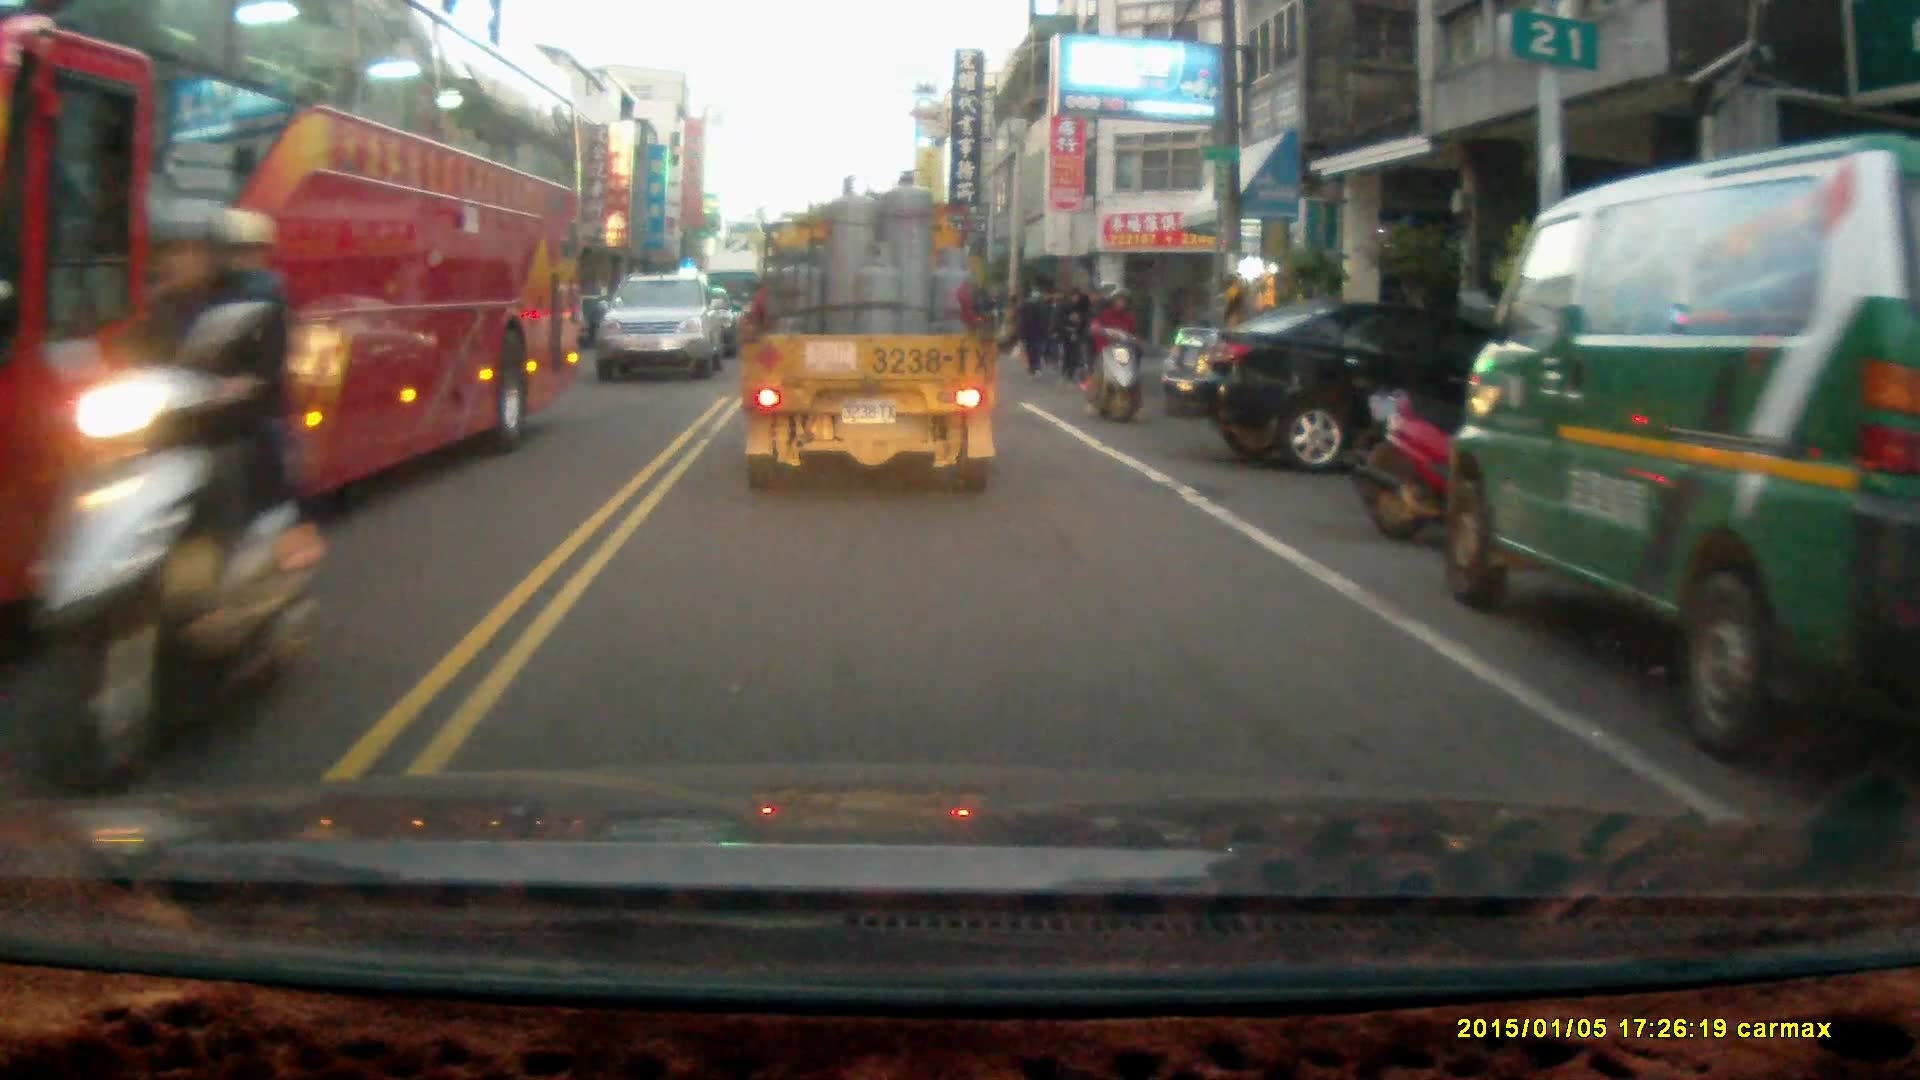pedestrian: (1054, 285, 1090, 389), (1018, 285, 1053, 373)
rider: (29, 193, 330, 798), (1085, 275, 1148, 425)
vehicle: (1, 7, 594, 635), (1441, 130, 1920, 768), (738, 167, 1003, 494), (1170, 300, 1552, 476), (601, 273, 728, 382)
